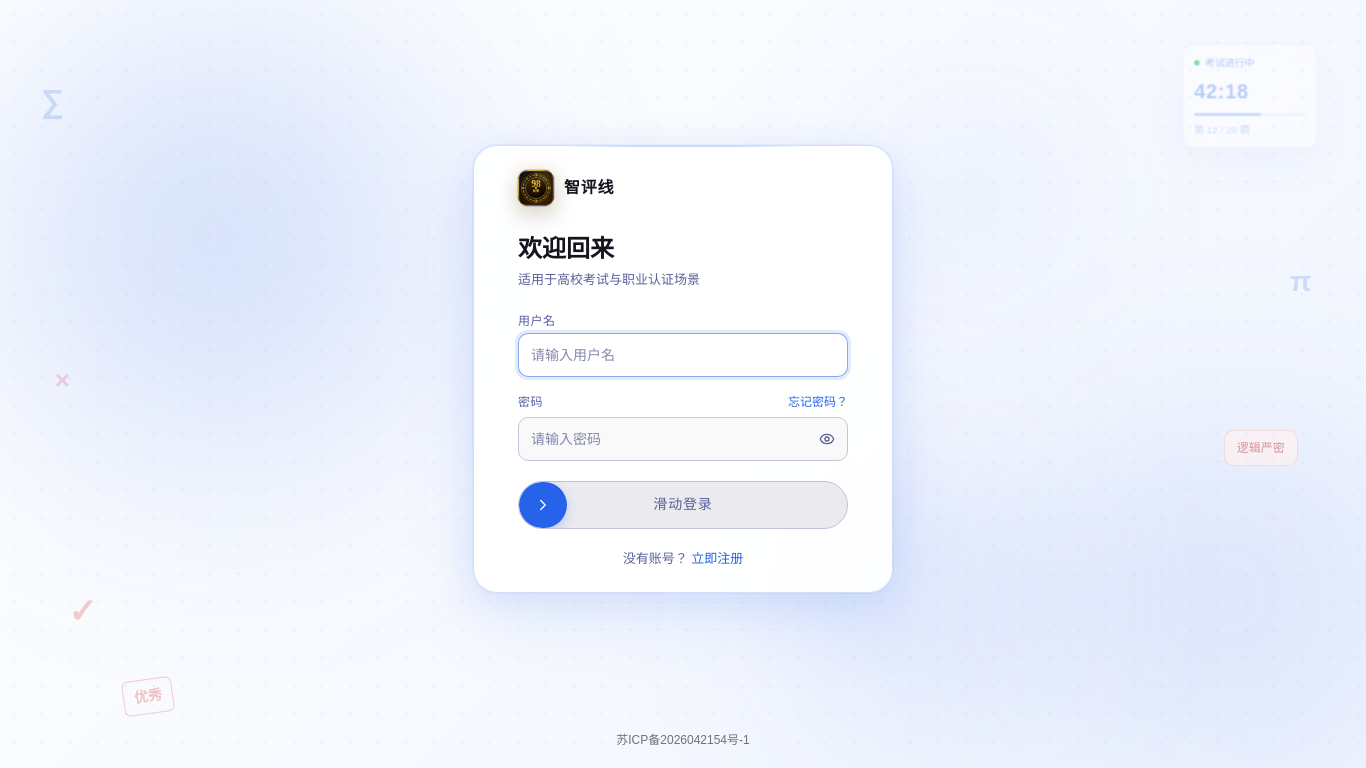
Test: LoginPage › shows a visible error when slide login fails
Type "teacher" into the field labelled "用户名" at point(683, 355), box [518, 333, 848, 377]
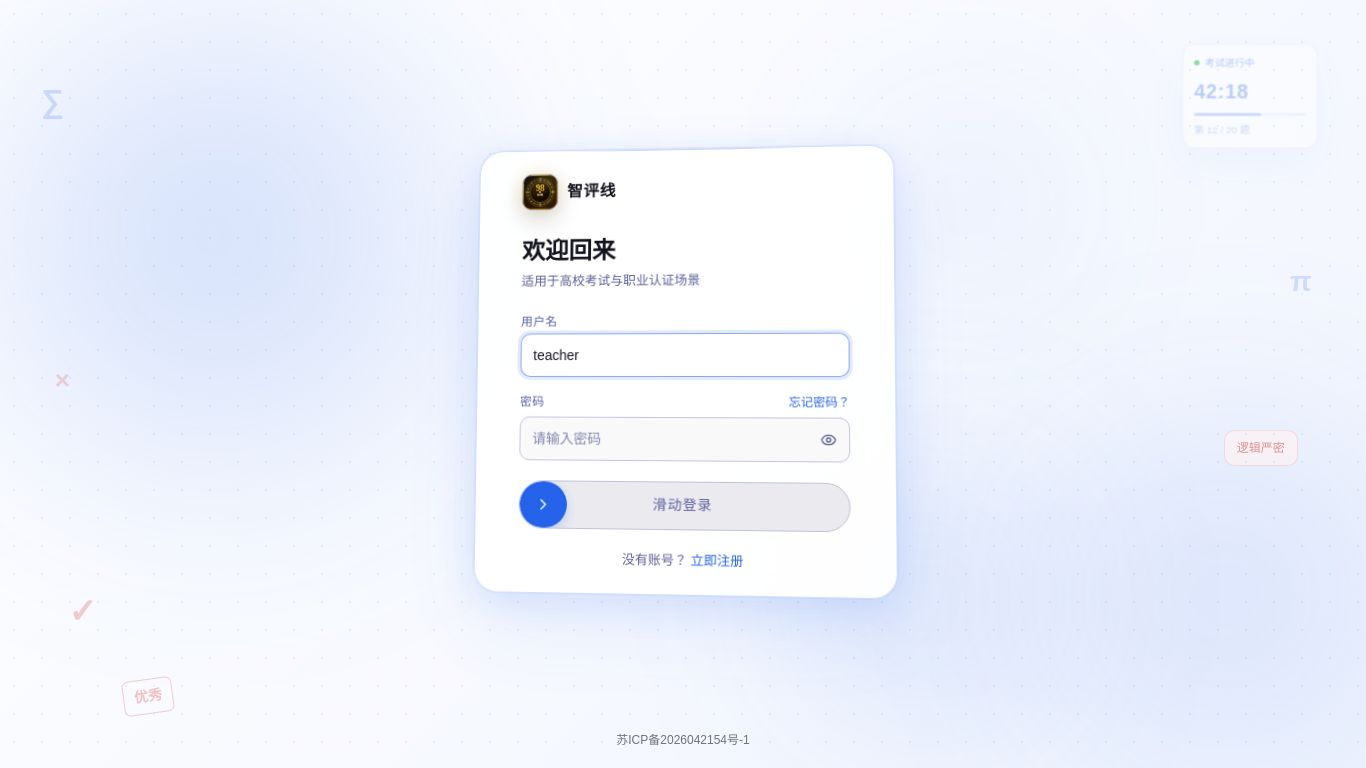
Type "wrong-password" into the password field labelled "密码" at point(685, 439), box [519, 416, 850, 462]
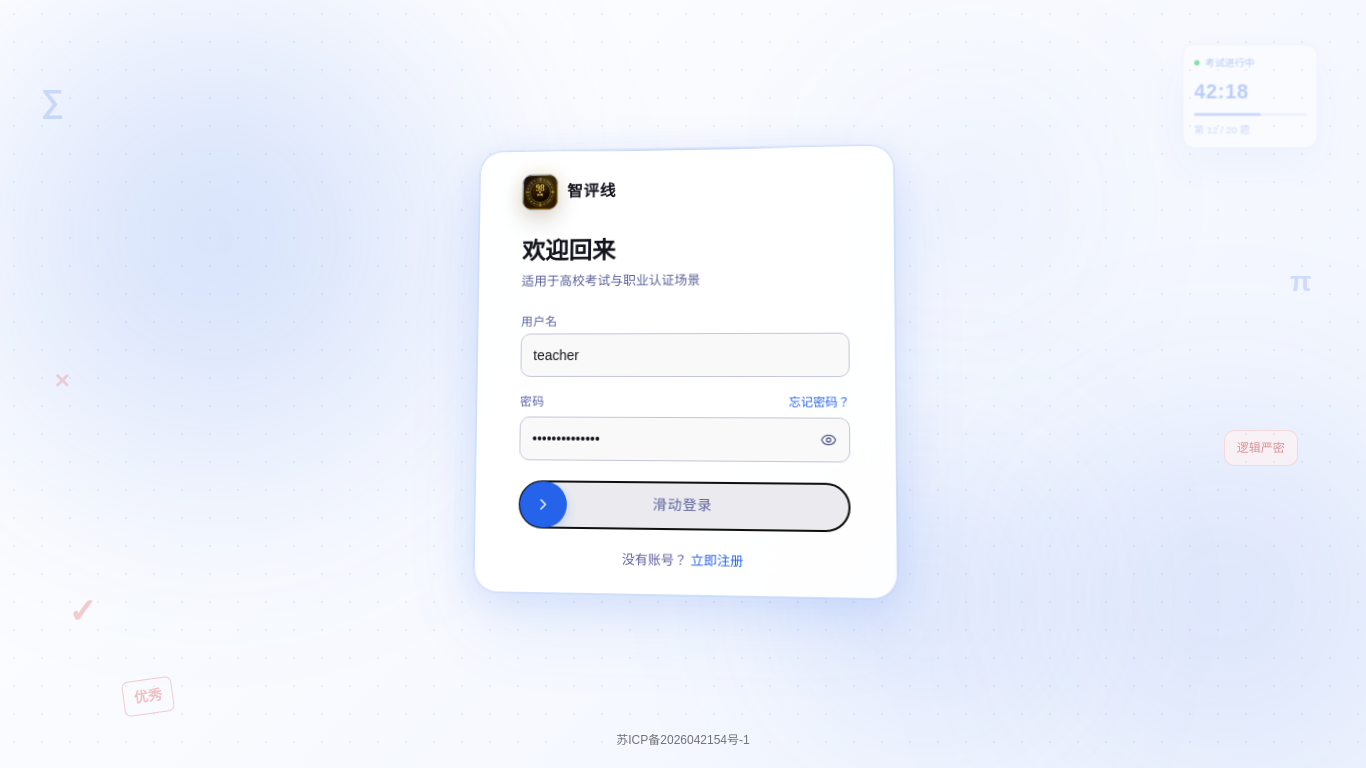
Press Enter
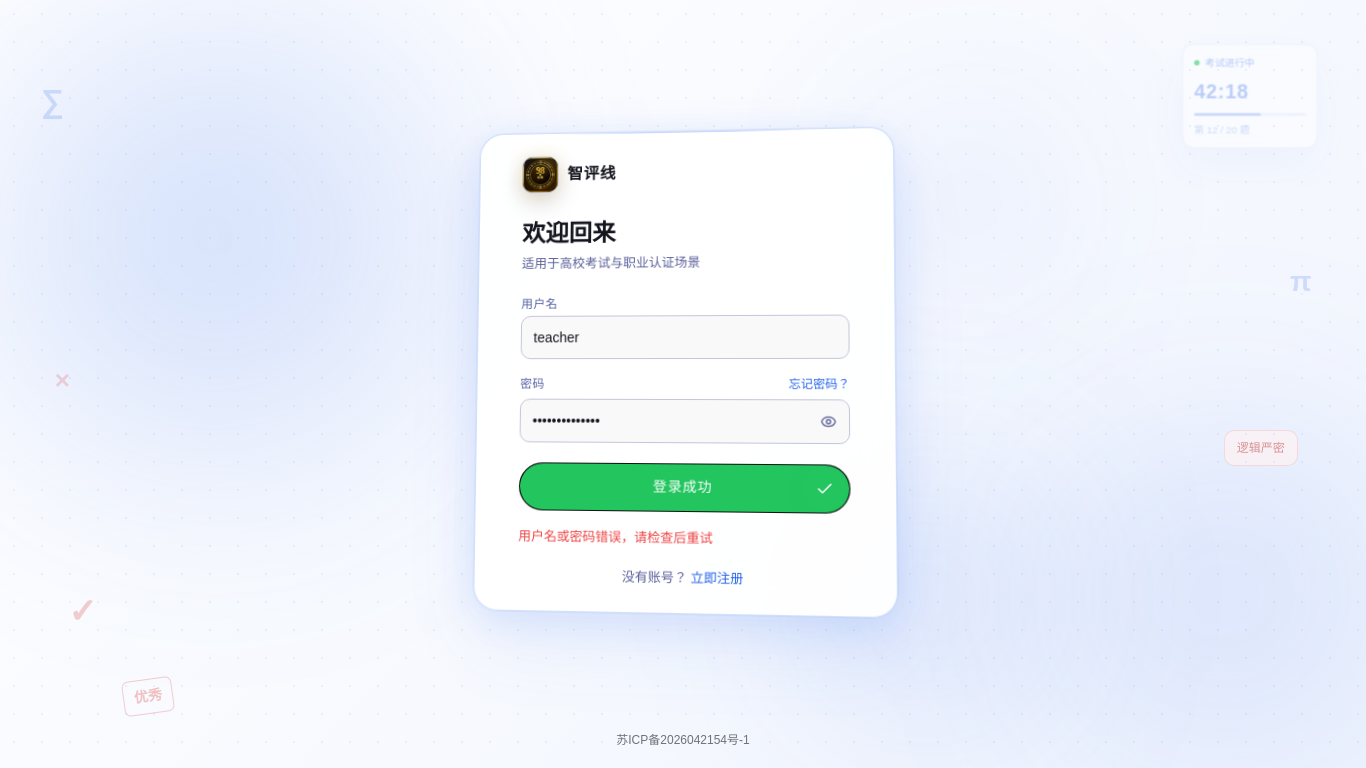
Result: the text "用户名或密码错误，请检查后重试" is shown at [518, 528, 713, 546]
